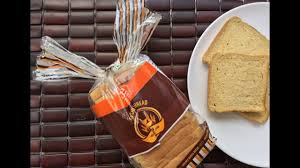bread: (39, 11, 216, 168), (193, 22, 284, 125)
